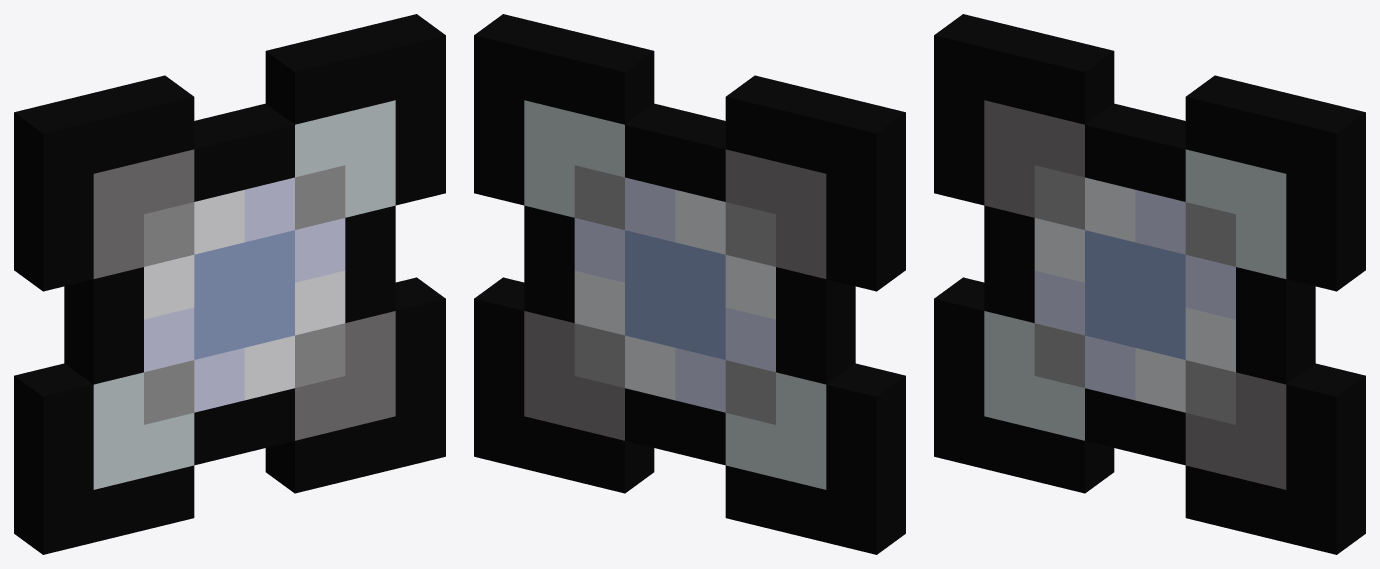
The model's file is Caught Mob Frost_Golem Default.glb.
3 renders of one model, left to right at view 1: azimuth 30°, elevation 25°; view 2: azimuth 150°, elevation 25°; view 3: azimuth 330°, elevation 25°, orthographic.
Parts seen in each view (by area): view 1: generated(Clone); view 2: generated(Clone); view 3: generated(Clone).
Part boxes in pixels (x1,y1,x2,y2): generated(Clone): (14,14,445,554); generated(Clone): (474,14,905,554); generated(Clone): (934,14,1365,554).
Bounding box in the file's own units: 8 × 8 × 1.
1 material, 1 textured.
